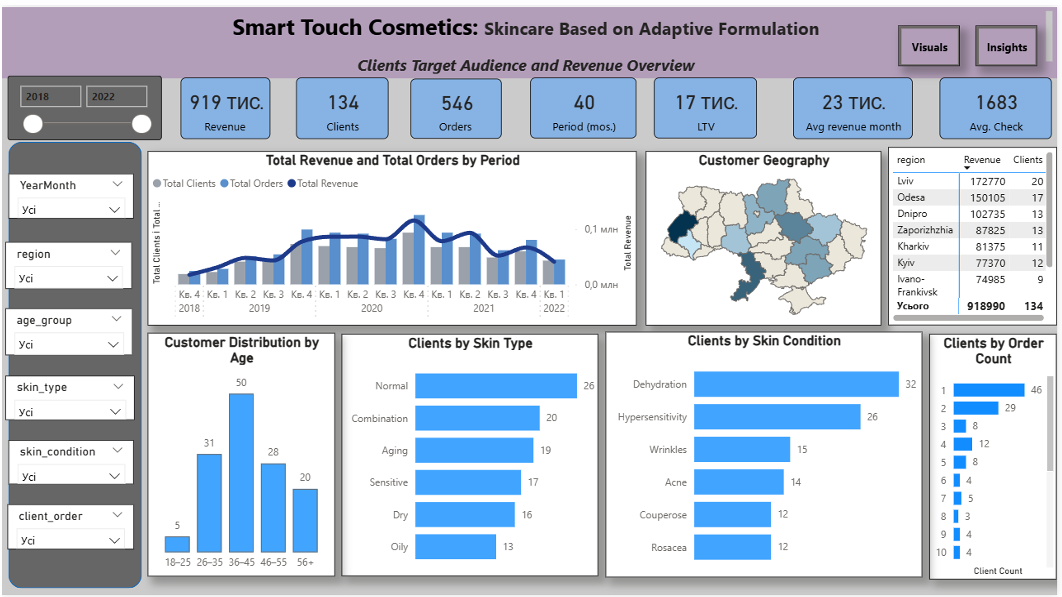

The dashboard page shown, as its layout file describes it:
{"tool":"powerbi","page":{"name":"Overview","canvas":[1280,720],"ordinal":1},"visuals":[{"type":"card","fields":{"Values":["_DAX_measures_.Total Clients"]},"box":[356.4,86.2,111.6,74.8],"z":0,"group":"g3"},{"type":"shape","box":[9.3,165.1,161.6,546.5],"z":0},{"type":"lineClusteredColumnComboChart","title":"Total Revenue and Total Orders by Period","fields":{"Category":["Date.Date.Варіація.Ієрархія дат.Рік","Date.Date.Варіація.Ієрархія дат.Квартал","Date.Date.Варіація.Ієрархія дат.Місяць"],"Y":["_DAX_measures_.Total Clients","_DAX_measures_.Total Orders"],"Y2":["_DAX_measures_.Total Revenue"]},"box":[176.9,175.9,593.1,213.7],"z":0,"group":"g2"},{"type":"slicer","fields":{"Values":["Calendar_Filter.YearMonth"]},"box":[9.2,203.6,152.2,55.5],"z":0,"group":"g1"},{"type":"textbox","title":"Заголовок","box":[0,0,1279.8,86.9],"z":1000},{"type":"card","fields":{"Values":["_DAX_measures_.Total Revenue"]},"box":[216.9,86.2,109.1,74.8],"z":1000,"group":"g3"},{"type":"clusteredBarChart","title":"Clients by Order Count","fields":{"Category":["sells.client_order"],"Y":["_DAX_measures_.Total Clients"]},"box":[1123.9,399.5,154.7,300.5],"z":1000,"group":"g2"},{"type":"slicer","fields":{"Values":["clients.skin_condition"]},"box":[9.2,529.6,152.2,54.3],"z":1000,"group":"g1"},{"type":"card","fields":{"Values":["_DAX_measures_.Total Orders"]},"box":[495.9,86.7,110.3,73.6],"z":2000,"group":"g3"},{"type":"shapeMap","title":"Customer Geography","fields":{"Category":["region.область"],"Value":["_DAX_measures_.Total Clients"]},"box":[781.2,175.9,286,213.7],"z":2000,"group":"g2"},{"type":"slicer","fields":{"Values":["clients.skin_type"]},"box":[5.6,451.1,156.9,54.3],"z":2000,"group":"g1"},{"type":"slicer","fields":{"Values":["Calendar_Filter.Year"]},"box":[7.8,83.5,187,79],"z":3000},{"type":"card","title":"середній чек","fields":{"Values":["_DAX_measures_.Average Check"]},"box":[1136.5,86.2,135.7,74.8],"z":3000,"group":"g3"},{"type":"slicer","fields":{"Values":["clients.region"]},"box":[5.6,287.2,153.3,57.7],"z":3000,"group":"g1"},{"type":"clusteredBarChart","title":"Clients by Skin Type ","fields":{"Category":["clients.skin_type"],"Y":["_DAX_measures_.Total Clients"]},"box":[411.7,399.5,311.6,297.1],"z":3000,"group":"g2"},{"type":"card","fields":{"Values":["_DAX_measures_.LTV"]},"box":[790.3,86.3,124.4,74.4],"z":4000,"group":"g3"},{"type":"group","id":"g1","title":"Фільтри","box":[5.6,203.6,154.7,459.6],"z":4000},{"type":"slicer","fields":{"Values":["clients.age_group"]},"box":[5.6,369.1,154.5,57.7],"z":4000,"group":"g1"},{"type":"clusteredBarChart","title":"Clients by Skin Condition ","fields":{"Category":["clients.skin_condition"],"Y":["_DAX_measures_.Total Clients"]},"box":[732.2,397.3,383.9,300.5],"z":4000,"group":"g2"},{"type":"actionButton","title":"Висновок","box":[1181.7,22.3,74.5,49.7],"z":5000},{"type":"card","fields":{"Values":["_DAX_measures_.Avg revenue month"]},"box":[958.9,86.2,144.6,74.8],"z":5000,"group":"g3"},{"type":"clusteredColumnChart","title":"Customer Distribution by Age","fields":{"Category":["clients.age_group"],"Y":["_DAX_measures_.Total Clients"]},"box":[176.9,398.4,227,298.2],"z":5000,"group":"g2"},{"type":"slicer","fields":{"Values":["sells.client_order"]},"box":[8.2,608.2,153.3,55.5],"z":5000,"group":"g1"},{"type":"actionButton","box":[1087.4,22.3,74.5,49.7],"z":6000},{"type":"card","fields":{"Values":["_DAX_measures_.TotalMonths"]},"box":[640.7,86,129.1,74.4],"z":6000,"group":"g3"},{"type":"pivotTable","fields":{"Rows":["clients.region"],"Values":["_DAX_measures_.Total Revenue","_DAX_measures_.Total Clients"]},"box":[1073.8,171.4,204.8,218.1],"z":6000,"group":"g2"},{"type":"group","id":"g2","title":"Графіки","box":[176.9,171.4,1101.7,528.6],"z":8000},{"type":"group","id":"g3","title":"Картки","box":[216.9,86,1055.3,75],"z":9000}]}

Visuals, with their boxes in screenshot pixels (x1, y1, x2, y2), scaled from the page's 1280x720 canvas onto the 1062x597 screenshot:
card - _DAX_measures_.Total Clients: select_region(296, 71, 388, 133)
shape: select_region(8, 137, 142, 590)
"Total Revenue and Total Orders by Period" lineClusteredColumnComboChart: select_region(147, 146, 639, 323)
slicer - Calendar_Filter.YearMonth: select_region(8, 169, 134, 215)
"Заголовок" textbox: select_region(0, 0, 1061, 72)
card - _DAX_measures_.Total Revenue: select_region(180, 71, 270, 133)
"Clients by Order Count" clusteredBarChart: select_region(932, 331, 1061, 580)
slicer - clients.skin_condition: select_region(8, 439, 134, 484)
card - _DAX_measures_.Total Orders: select_region(411, 72, 503, 133)
"Customer Geography" shapeMap: select_region(648, 146, 885, 323)
slicer - clients.skin_type: select_region(5, 374, 135, 419)
slicer - Calendar_Filter.Year: select_region(6, 69, 162, 135)
"середній чек" card: select_region(943, 71, 1056, 133)
slicer - clients.region: select_region(5, 238, 132, 286)
"Clients by Skin Type " clusteredBarChart: select_region(342, 331, 600, 578)
card - _DAX_measures_.LTV: select_region(656, 72, 759, 133)
"Фільтри" group: select_region(5, 169, 133, 550)
slicer - clients.age_group: select_region(5, 306, 133, 354)
"Clients by Skin Condition " clusteredBarChart: select_region(607, 329, 926, 579)
"Висновок" actionButton: select_region(980, 18, 1042, 60)
card - _DAX_measures_.Avg revenue month: select_region(796, 71, 916, 133)
"Customer Distribution by Age" clusteredColumnChart: select_region(147, 330, 335, 578)
slicer - sells.client_order: select_region(7, 504, 134, 550)
actionButton: select_region(902, 18, 964, 60)
card - _DAX_measures_.TotalMonths: select_region(532, 71, 639, 133)
pivotTable - clients.region x _DAX_measures_.Total Revenue: select_region(891, 142, 1061, 323)
"Графіки" group: select_region(147, 142, 1061, 580)
"Картки" group: select_region(180, 71, 1056, 133)
